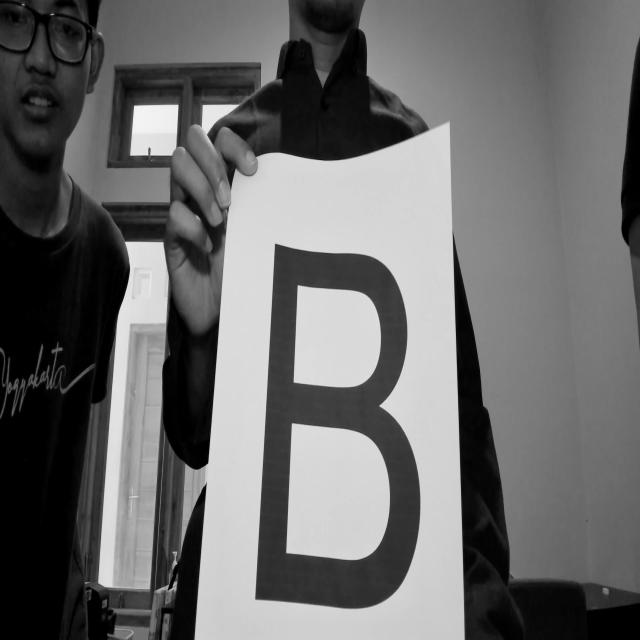b: (247, 224, 433, 622)
